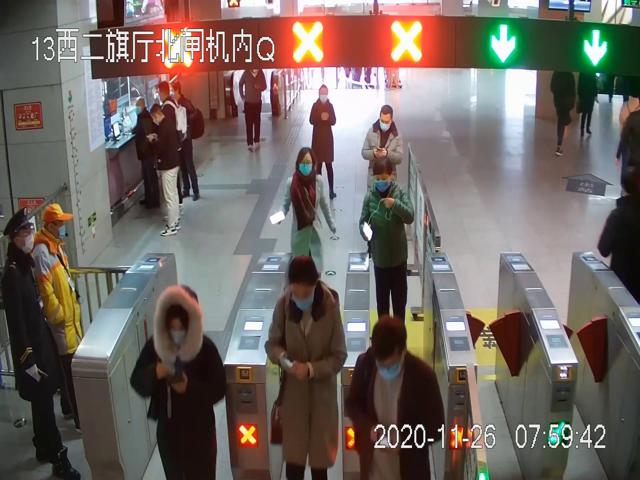person: (133, 276, 238, 480), (2, 205, 79, 480), (349, 312, 457, 480), (272, 253, 342, 478), (35, 199, 96, 430), (359, 156, 422, 332), (278, 146, 331, 284), (148, 106, 187, 238), (361, 94, 406, 208), (175, 79, 212, 202), (132, 97, 166, 209), (157, 81, 187, 205), (311, 86, 343, 202), (241, 66, 276, 155)
